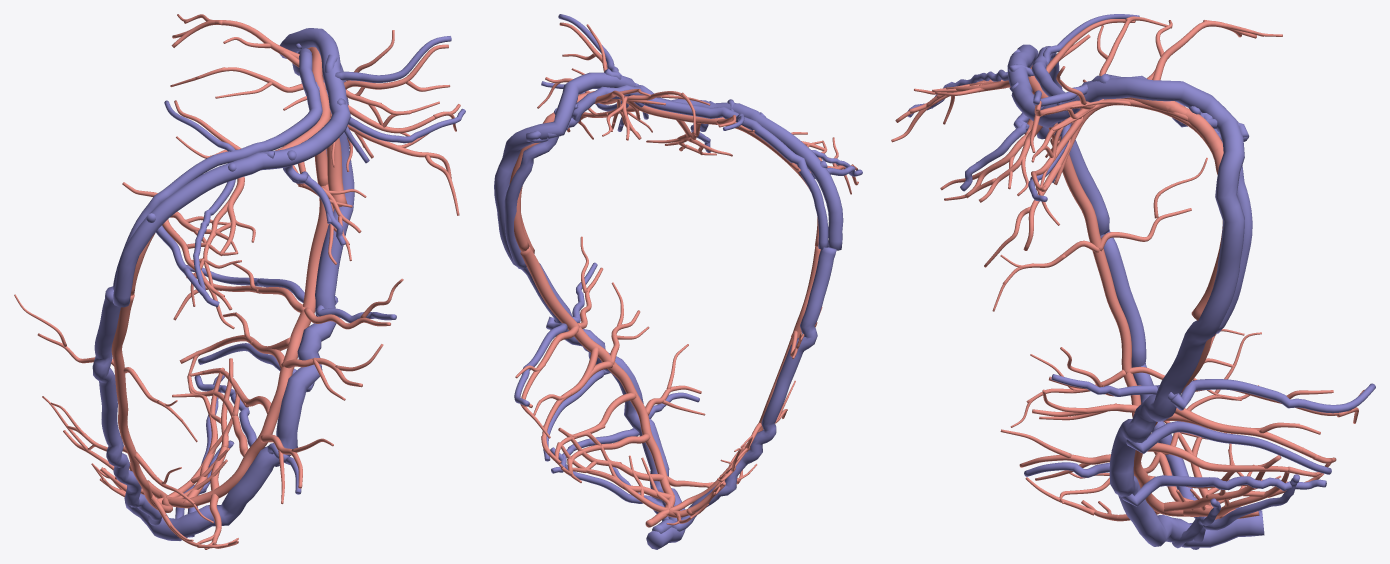
File: vessels_68.glb
The picture shows the model from 3 angles, left to right: view 1: azimuth 30°, elevation 25°; view 2: azimuth 150°, elevation 25°; view 3: azimuth 270°, elevation 25°; orthographic projection. The views are drawn at different scales.
Visible parts, largest first — view 1: Renderer Node; view 2: Renderer Node; view 3: Renderer Node.
Part boxes in pixels (left/top/right/bottom): Renderer Node: left=14, top=14, right=465, bottom=549; Renderer Node: left=494, top=14, right=862, bottom=549; Renderer Node: left=891, top=14, right=1375, bottom=549.
Size of the model in its own units: 95.14 by 124 by 95.6.
